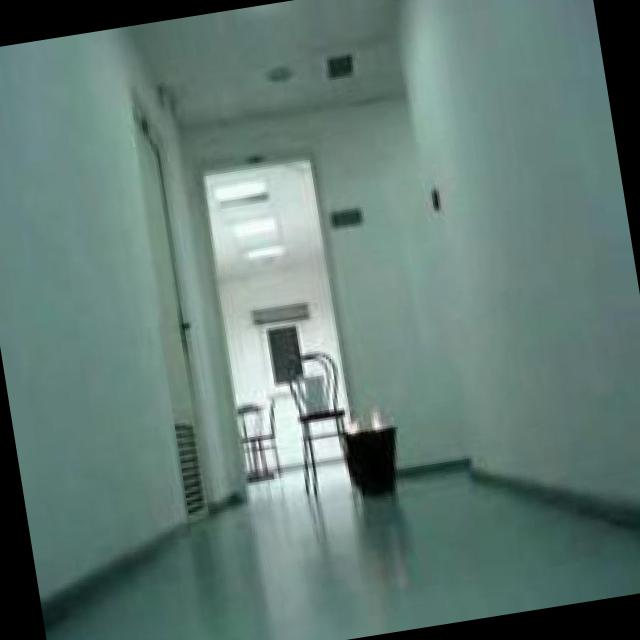Fire: (347, 406, 390, 436)
